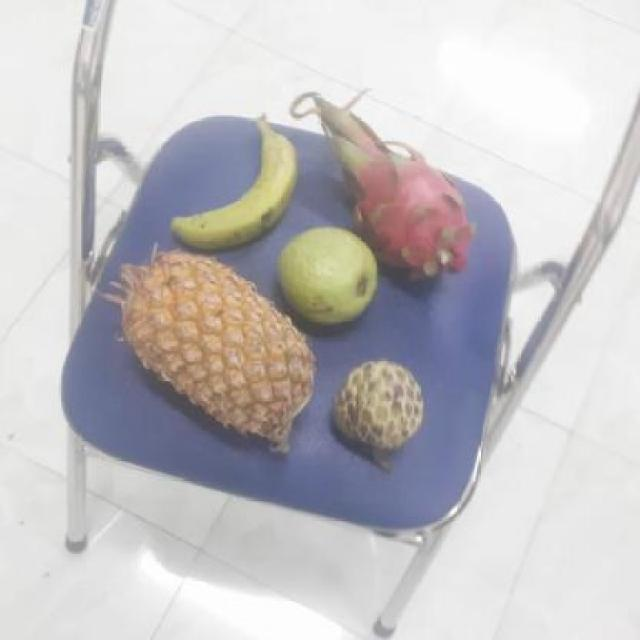banana: (167, 122, 295, 253)
dragon fruit: (326, 136, 465, 276)
guava: (273, 229, 381, 329)
pineapple: (111, 252, 315, 450)
sugar apple: (330, 359, 425, 450)
